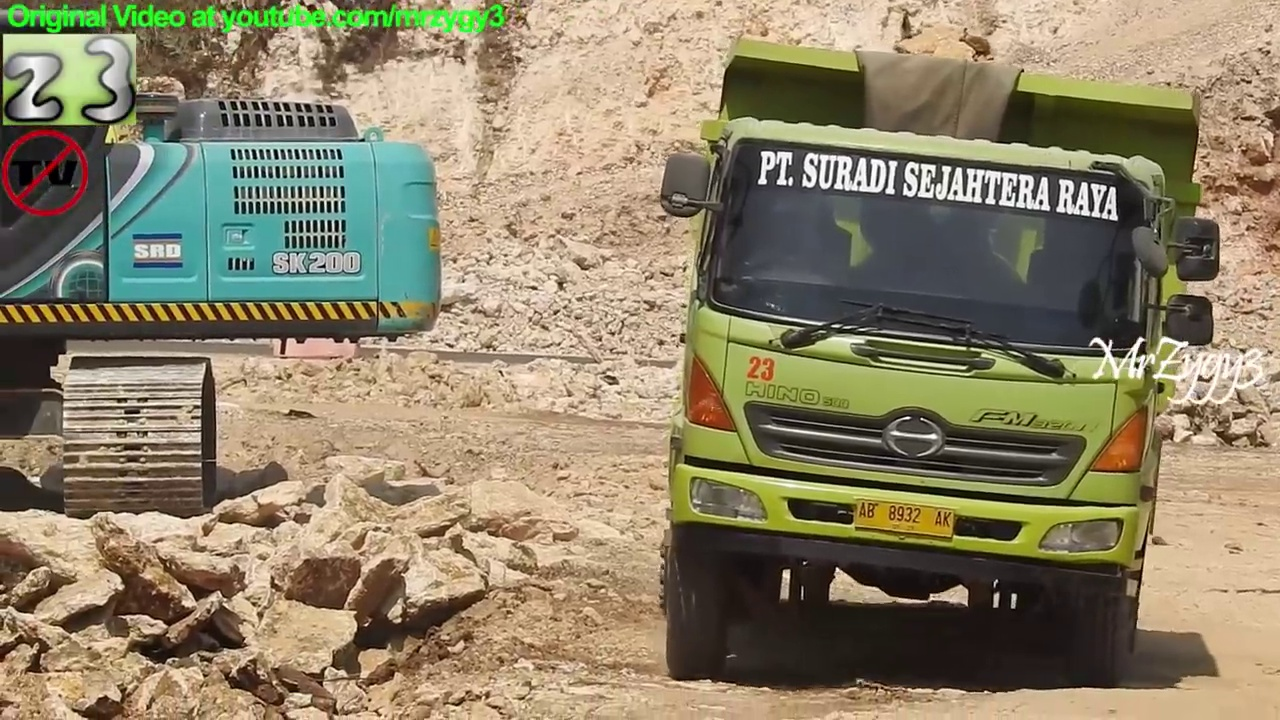excavator: (1, 1, 452, 519)
truck: (654, 33, 1224, 693)
